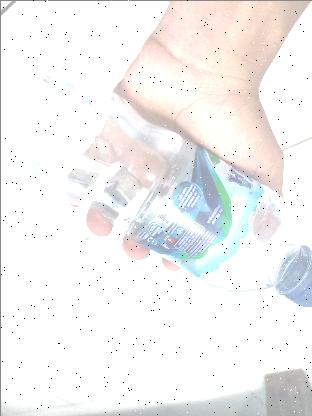Plastic Bottle: (0, 11, 312, 328)
